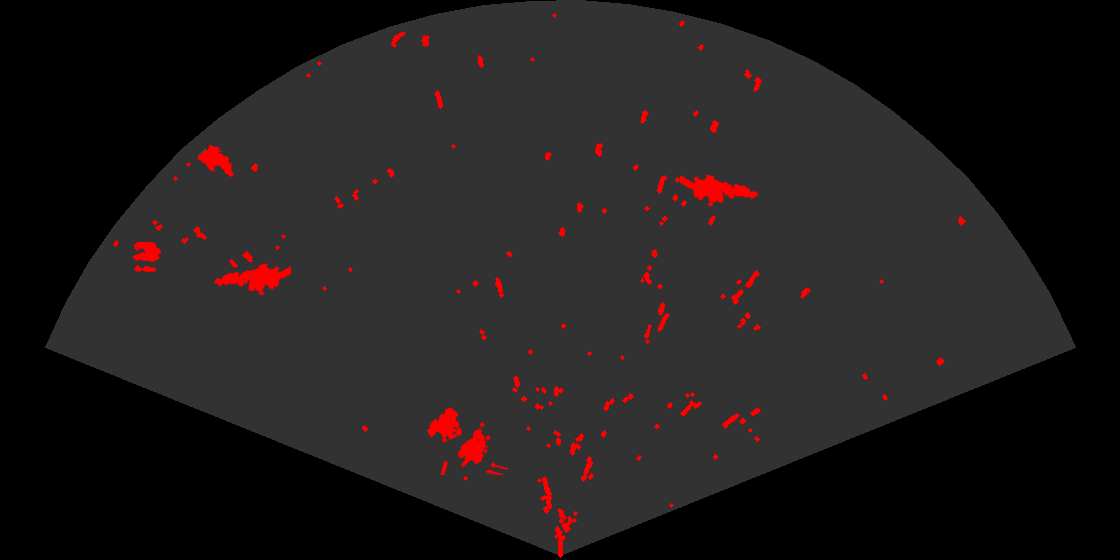AUV: (196, 143, 235, 178)
ball: (131, 240, 163, 273)
cage: (425, 406, 508, 475)
frogman: (680, 173, 760, 208), (212, 262, 291, 297)
